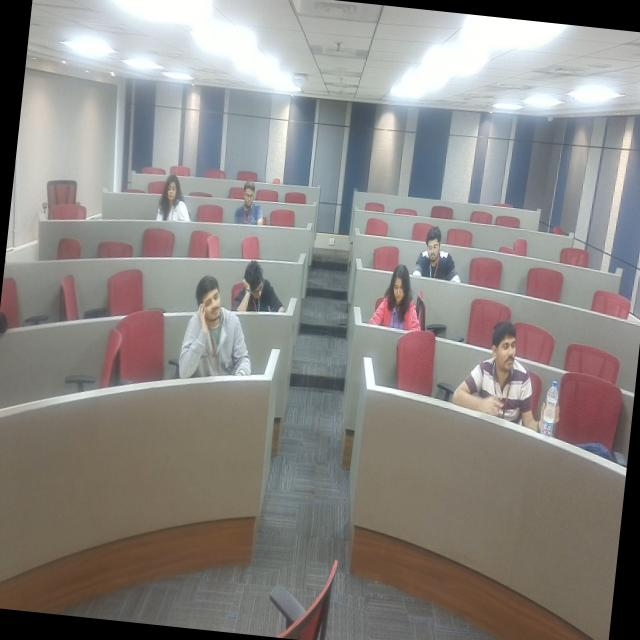non-cheating: (438, 302, 573, 460)
